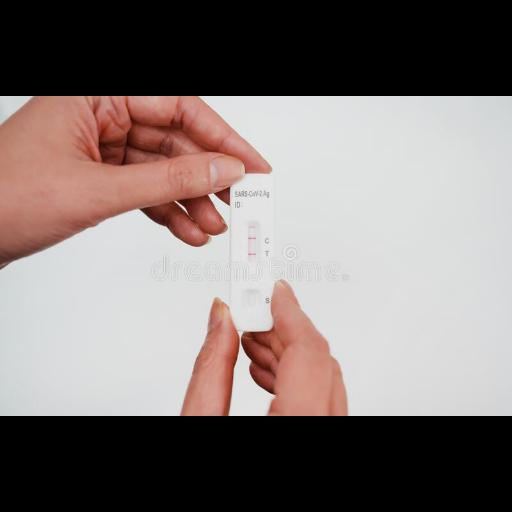Pos: (230, 172, 274, 330)
